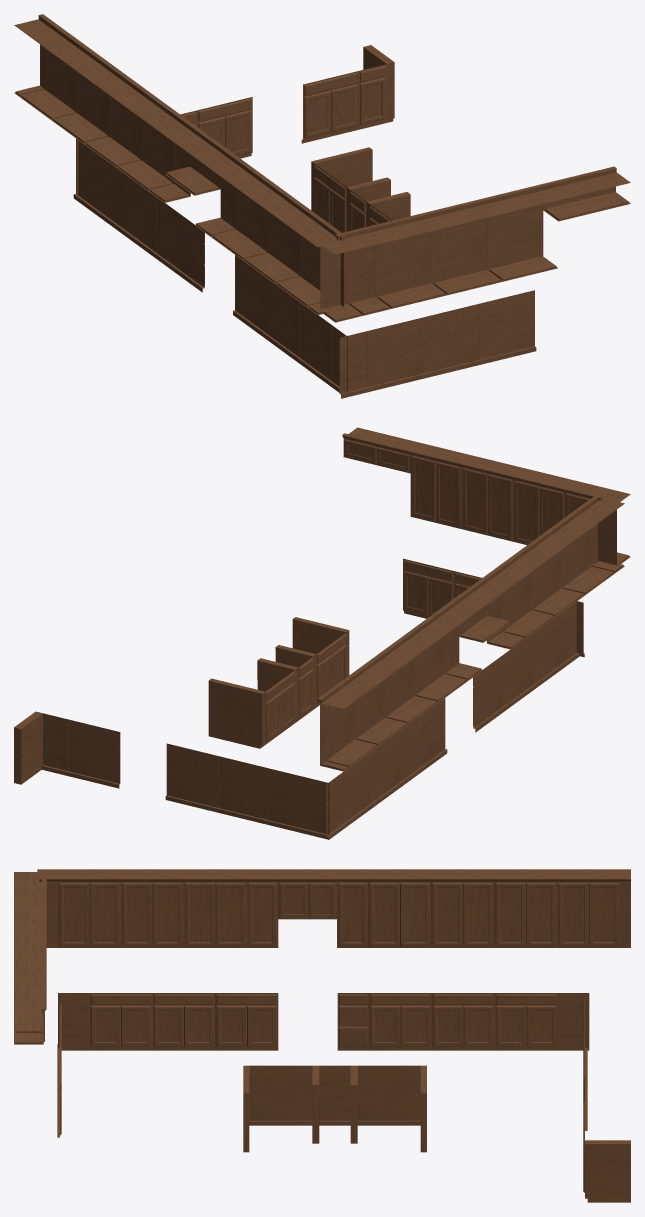
File: 2345_kitchen_cabinets_truffle.gltf
The picture shows the model from 3 angles, top to bottom: view 1: azimuth 30°, elevation 25°; view 2: azimuth 150°, elevation 25°; view 3: azimuth 270°, elevation 25°; orthographic projection. The views are drawn at different scales.
Visible parts, largest first — view 1: Line23325; view 2: Line23325; view 3: Line23325.
Part boxes in pixels (<box>): Line23325: <box>14,14,630,398</box>; Line23325: <box>14,427,630,839</box>; Line23325: <box>14,869,630,1202</box>.
Size of the model in its own units: 6.4 by 2.93 by 9.8.
1 material, 1 textured.
